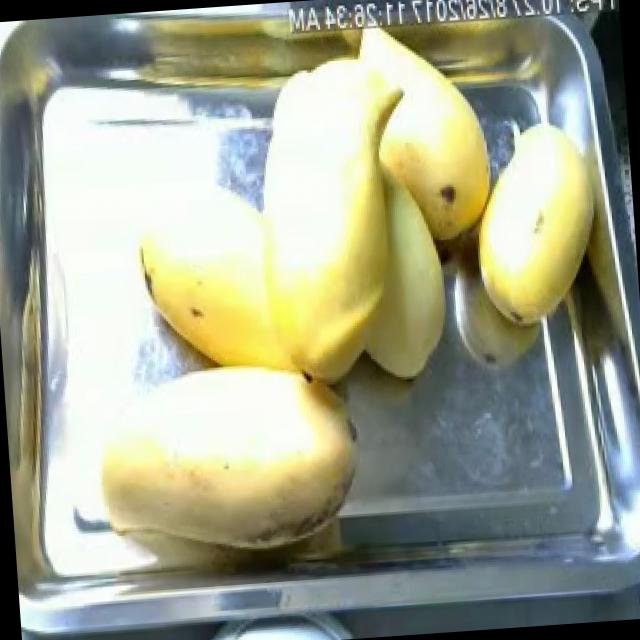fruit: (120, 156, 481, 410), (86, 409, 377, 574), (452, 106, 617, 340), (356, 56, 512, 262), (118, 0, 343, 119)
